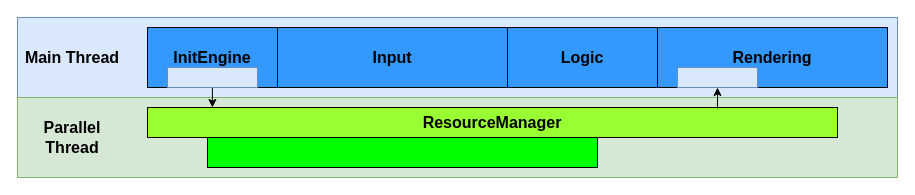
This 915x195 diagram has some shape labels left out. Here are the shapes that lost their labels. From the top down, the centre of each, then its label:
At point 212,77: "LoadResource".
At point 717,77: "GetResource".
At point 402,152: "FileLoading".
